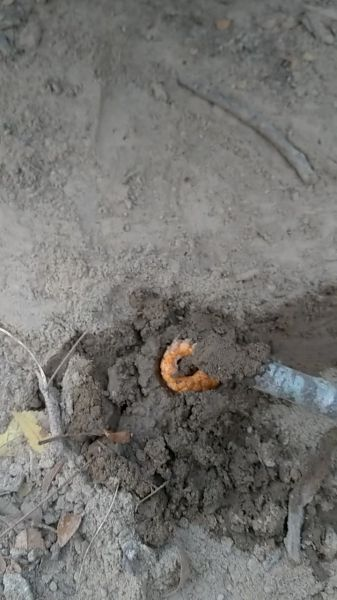eggs: (158, 334, 227, 395)
